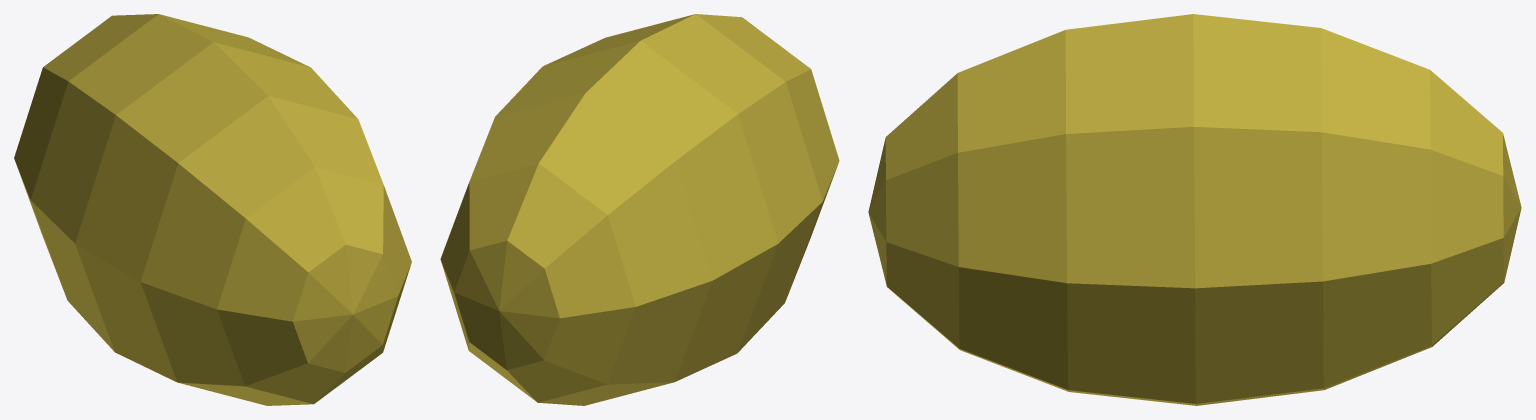
The model's file is yashi.fbx.
The picture shows the model from 3 angles, left to right: view 1: azimuth 30°, elevation 25°; view 2: azimuth 150°, elevation 25°; view 3: azimuth 270°, elevation 25°; orthographic projection. The views are drawn at different scales.
Visible parts, largest first — view 1: polySurface4; view 2: polySurface4; view 3: polySurface4.
Boxes of the visible parts, box(x1,y1,x2,y2) form: polySurface4: box(14, 14, 411, 405); polySurface4: box(440, 14, 839, 405); polySurface4: box(868, 14, 1521, 405).
Bounding box in the file's own units: 2.87 × 3.34 × 5.05.
